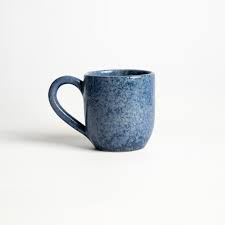mug: (43, 60, 163, 159)
